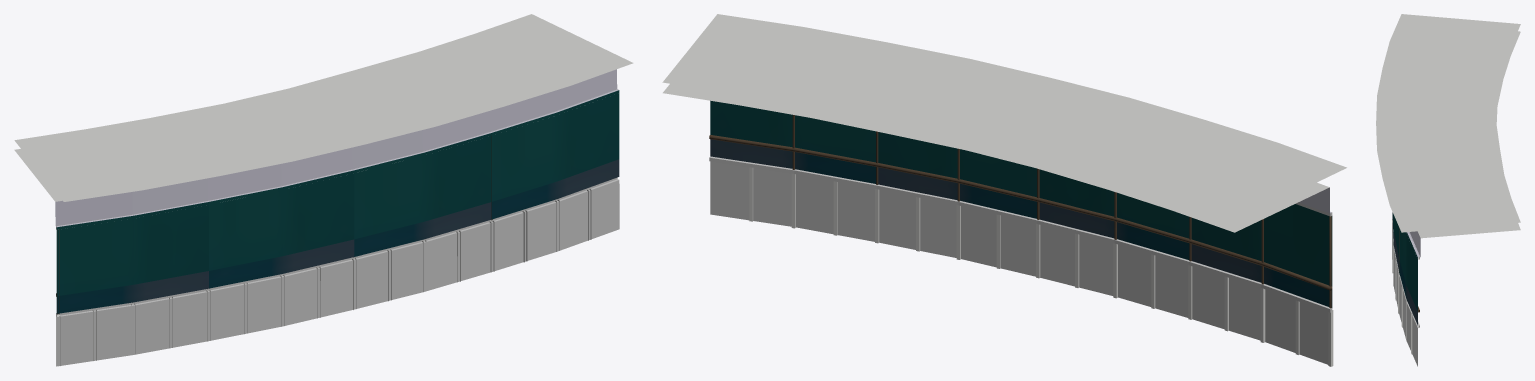
File: MCM_2W_002.fbx
3 views of the same model, side by side, from view 1: azimuth 30°, elevation 25°; view 2: azimuth 150°, elevation 25°; view 3: azimuth 270°, elevation 25° (orthographic). The views are drawn at different scales.
Parts seen in each view (by area): view 1: MCM_2W_002; view 2: MCM_2W_002; view 3: MCM_2W_002.
Part boxes in pixels (x1,y1,x2,y2): MCM_2W_002: (14, 14, 633, 366); MCM_2W_002: (662, 14, 1346, 366); MCM_2W_002: (1376, 14, 1520, 366).
Bounding box in the file's own units: 15.35 × 4.3 × 4.45.
Materials: 4 (4 with a texture image).
